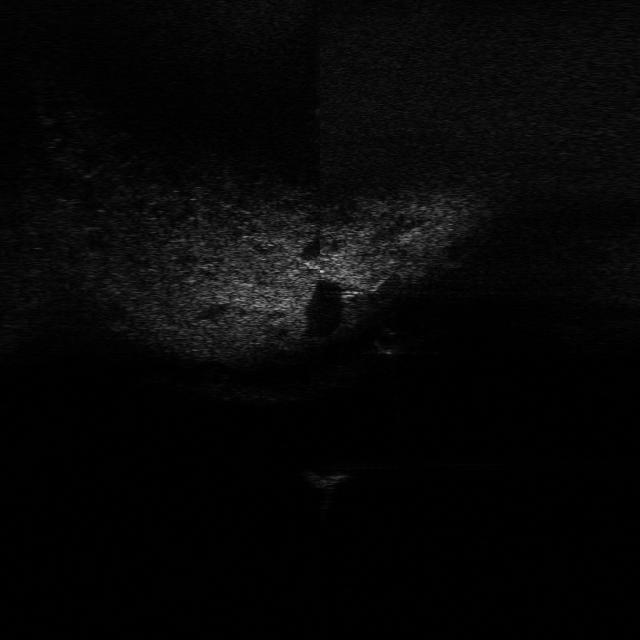ball: (370, 326, 404, 356)
cube: (298, 467, 354, 490)
